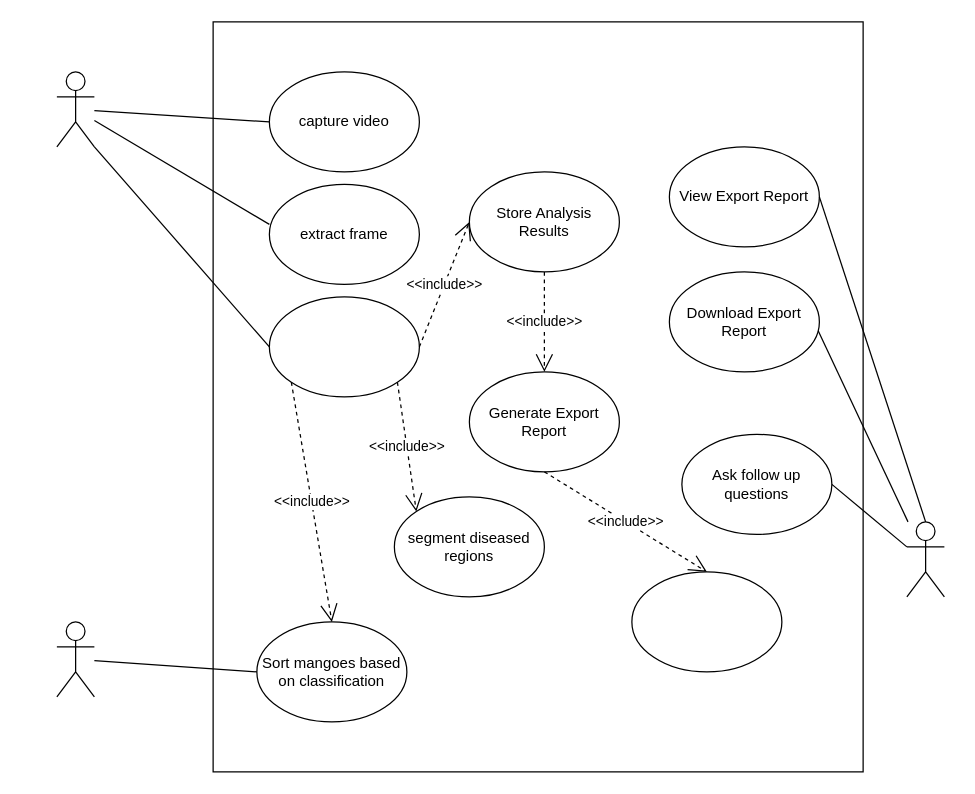
The diagram is 975 pixels wide and 794 high, and some of its shapes have lost their labels. The box of each missing label's shape, as (x1, y1, x2, y2) in pixels:
Camera System: (56, 71, 94, 147)
classify images: (268, 296, 419, 397)
Exporter: (906, 521, 944, 597)
Sorting Arm: (56, 621, 94, 697)
Store Export Report: (631, 571, 782, 672)
